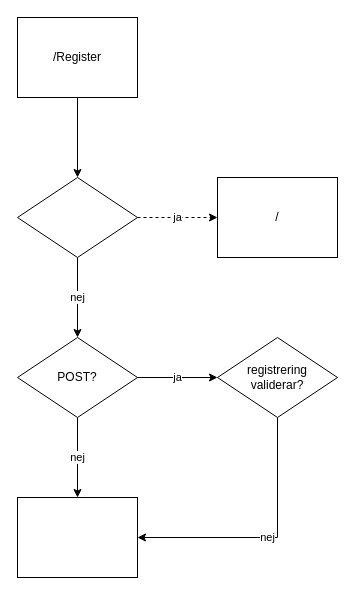
Some shapes in this 355 by 595 pixel diagram are drawn without their labels. Each missing label, with the centre of its shape:
"inloggad?" goes at (x=77, y=217).
"visa form för registrering" goes at (x=77, y=537).
